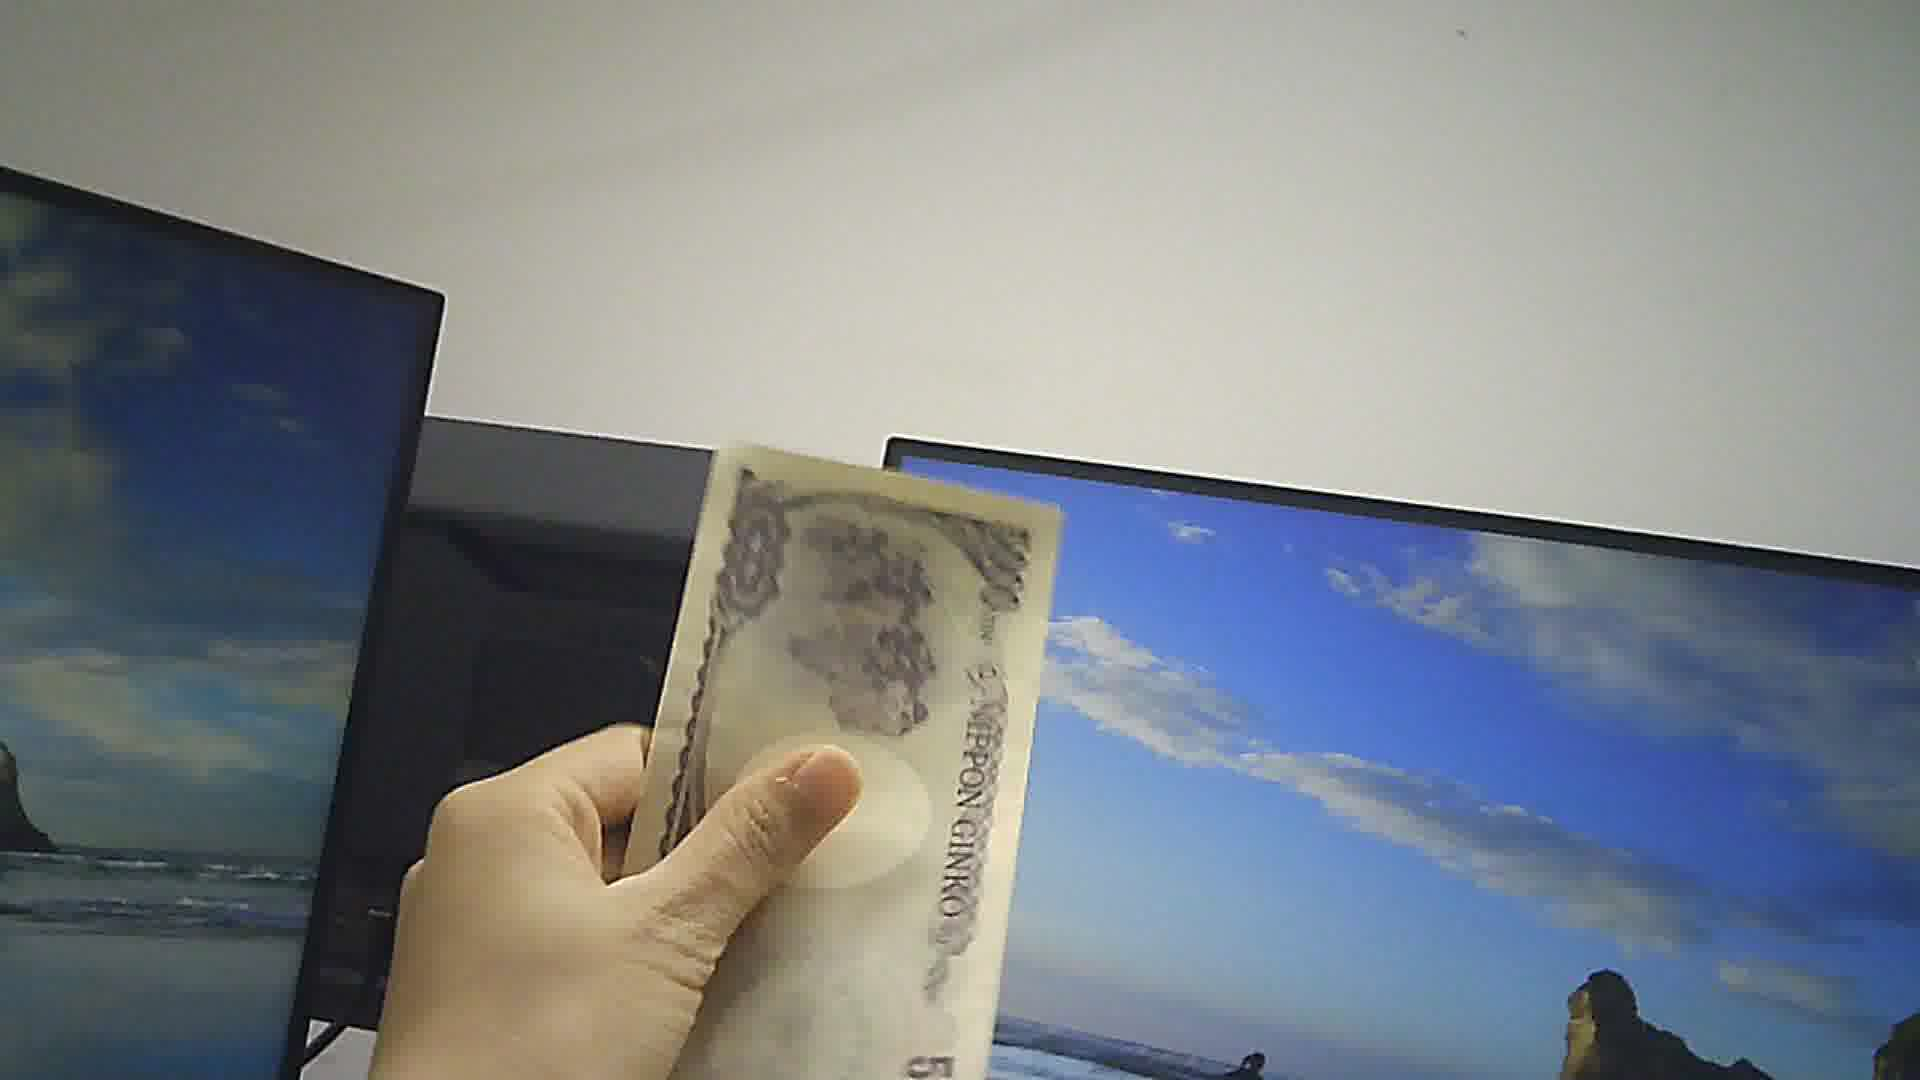5,000 Yen: (620, 431, 1042, 1077)
